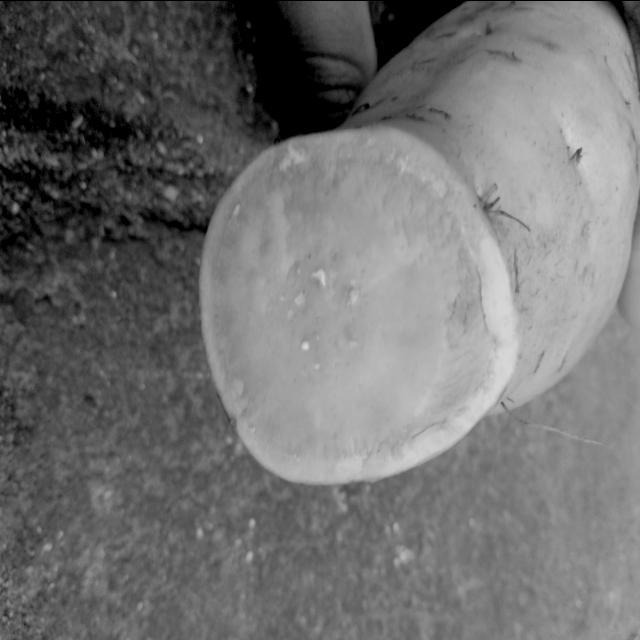Healthy Sweet Potato: (200, 127, 518, 483)
